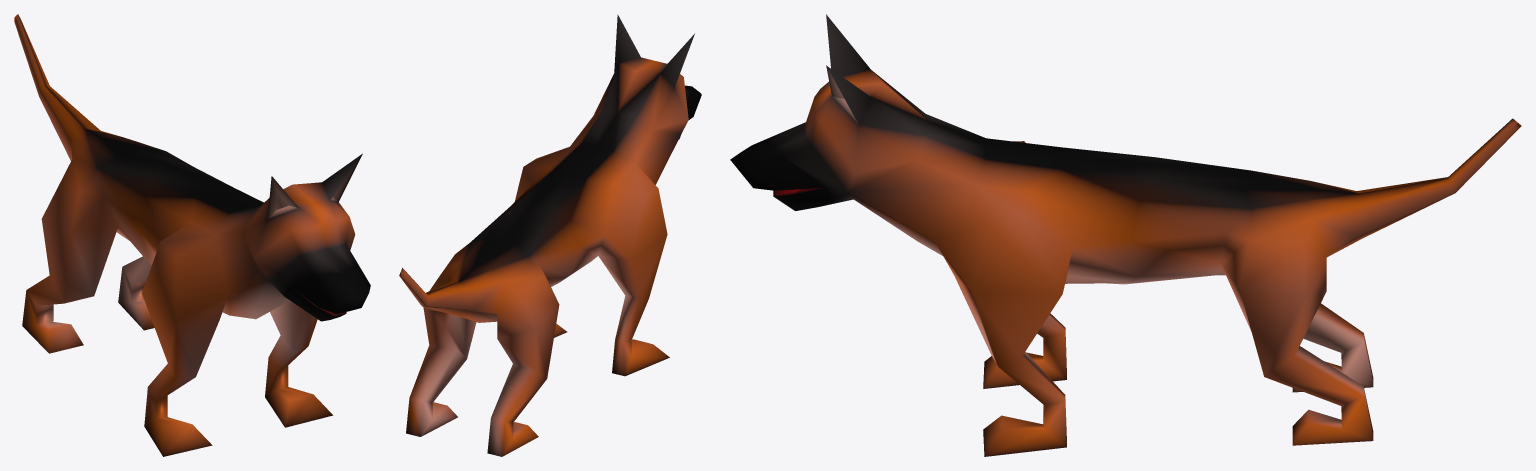
File: dog.fbx
The picture shows the model from 3 angles, left to right: view 1: azimuth 30°, elevation 25°; view 2: azimuth 150°, elevation 25°; view 3: azimuth 270°, elevation 25°; orthographic projection. The views are drawn at different scales.
Visible parts, largest first — view 1: dog; view 2: dog; view 3: dog.
Boxes of the visible parts, x1,y1,x2,y2 form: dog: [14, 14, 370, 456]; dog: [399, 14, 701, 456]; dog: [730, 14, 1521, 456].
Bounding box in the file's own units: 54.8 × 99.12 × 192.
